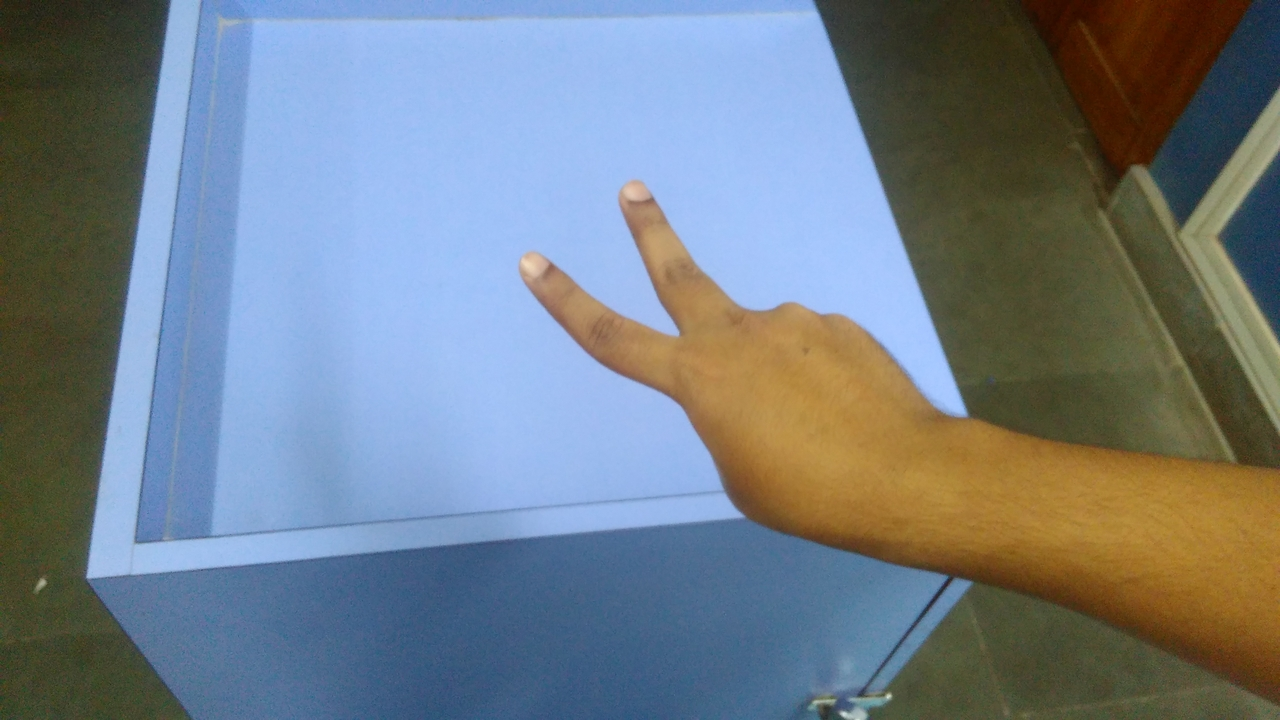fingertip: (502, 236, 570, 290), (604, 166, 668, 216)
